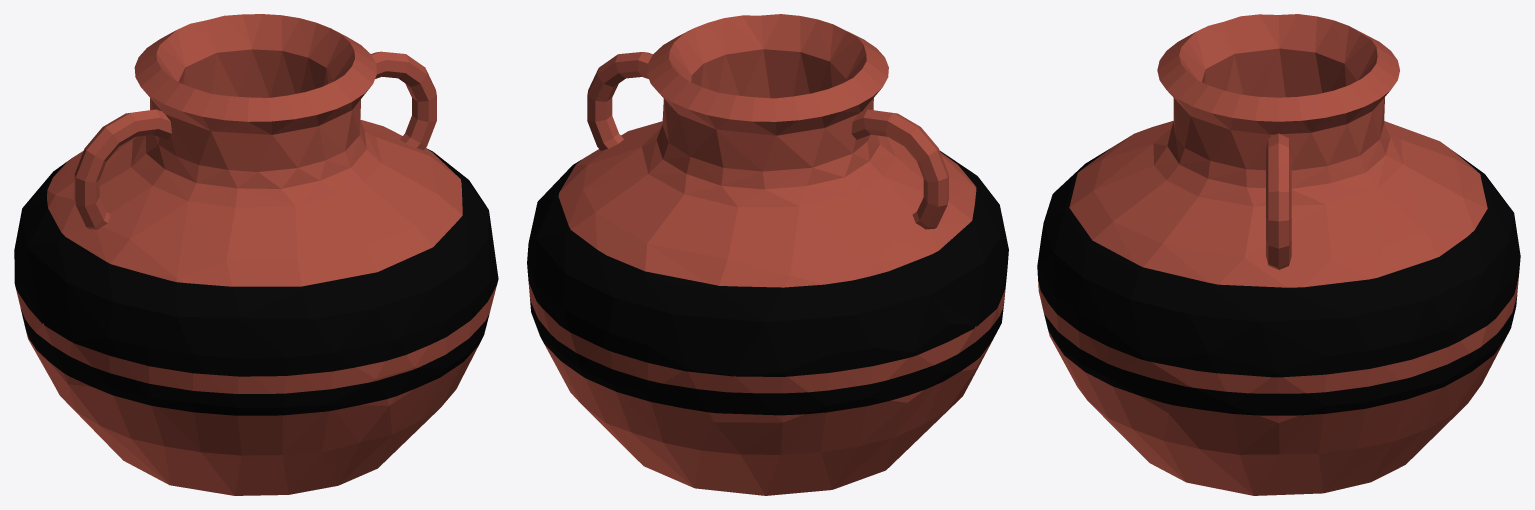
Rendered from Pottery 15_2.fbx.
The picture shows the model from 3 angles, left to right: view 1: azimuth 30°, elevation 25°; view 2: azimuth 150°, elevation 25°; view 3: azimuth 270°, elevation 25°; orthographic projection.
Visible parts, largest first — view 1: Pottery 15_2; view 2: Pottery 15_2; view 3: Pottery 15_2.
Boxes of the visible parts, x1,y1,x2,y2 form: Pottery 15_2: (14,14,498,495); Pottery 15_2: (527,14,1008,495); Pottery 15_2: (1037,14,1520,495).
Size of the model in its own units: 53.28 by 45.94 by 52.98.
